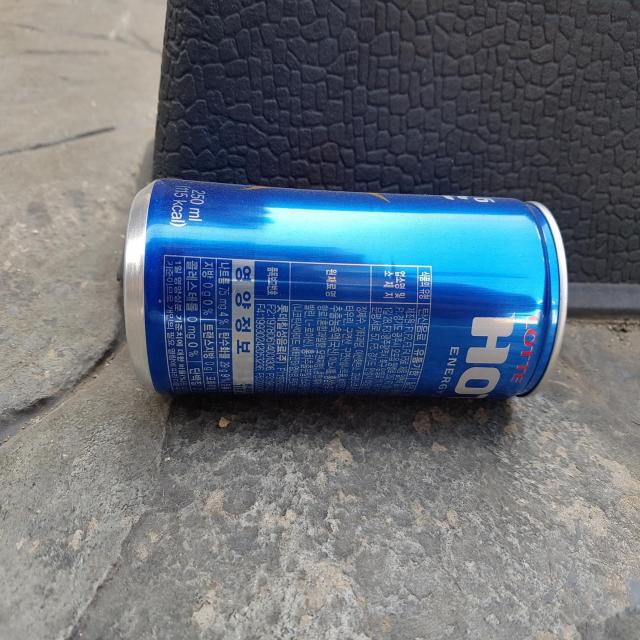can: (123, 178, 568, 399)
